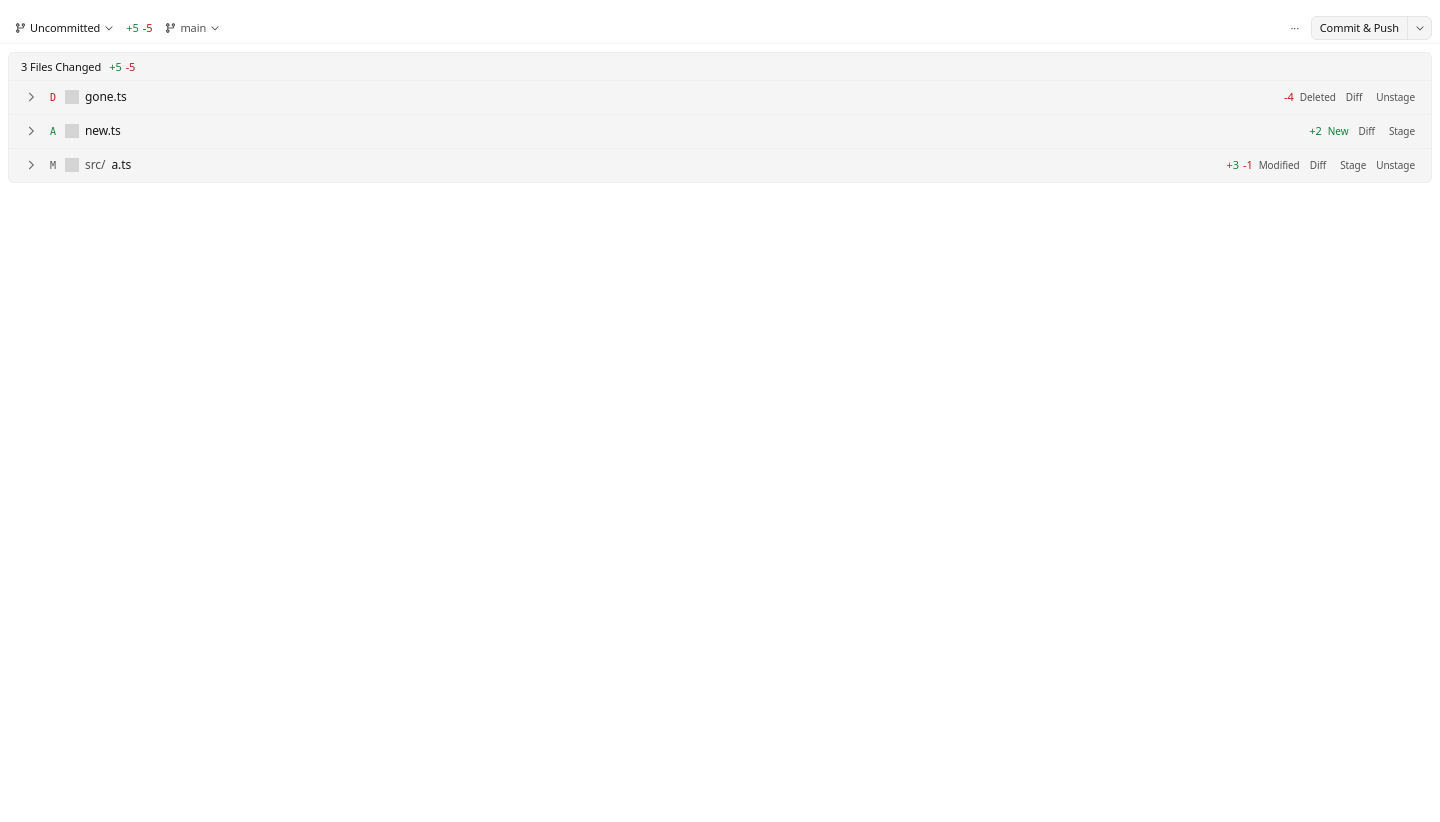
Test: ChangesPanel › lists commits from gitLog under Commits scope
Click the button "Uncommitted". click: (64, 28)
box: x1=8 y1=16 x2=120 y2=40
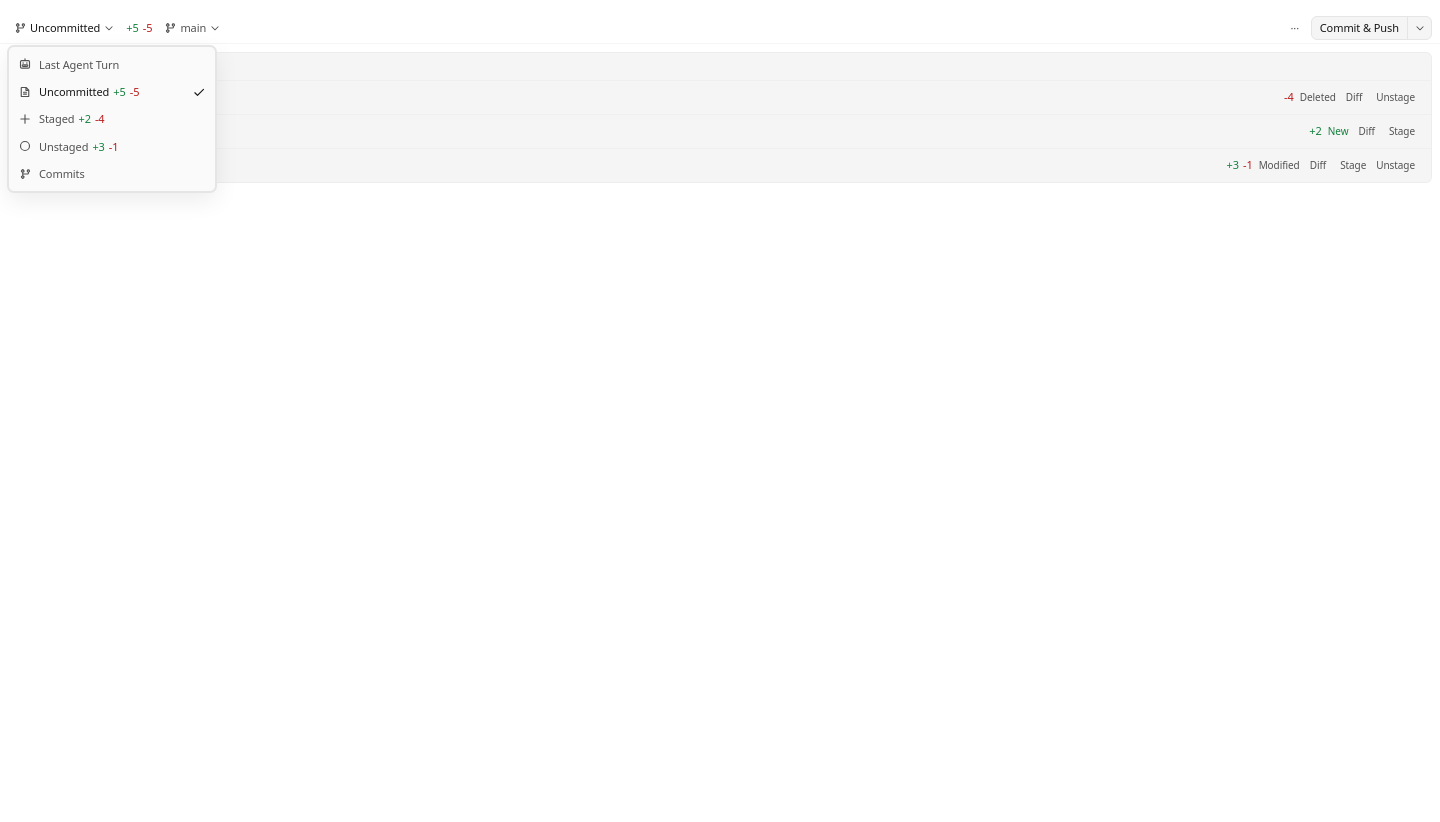
Click the menu item "Commits". click: (112, 174)
box: x1=9 y1=160 x2=215 y2=188
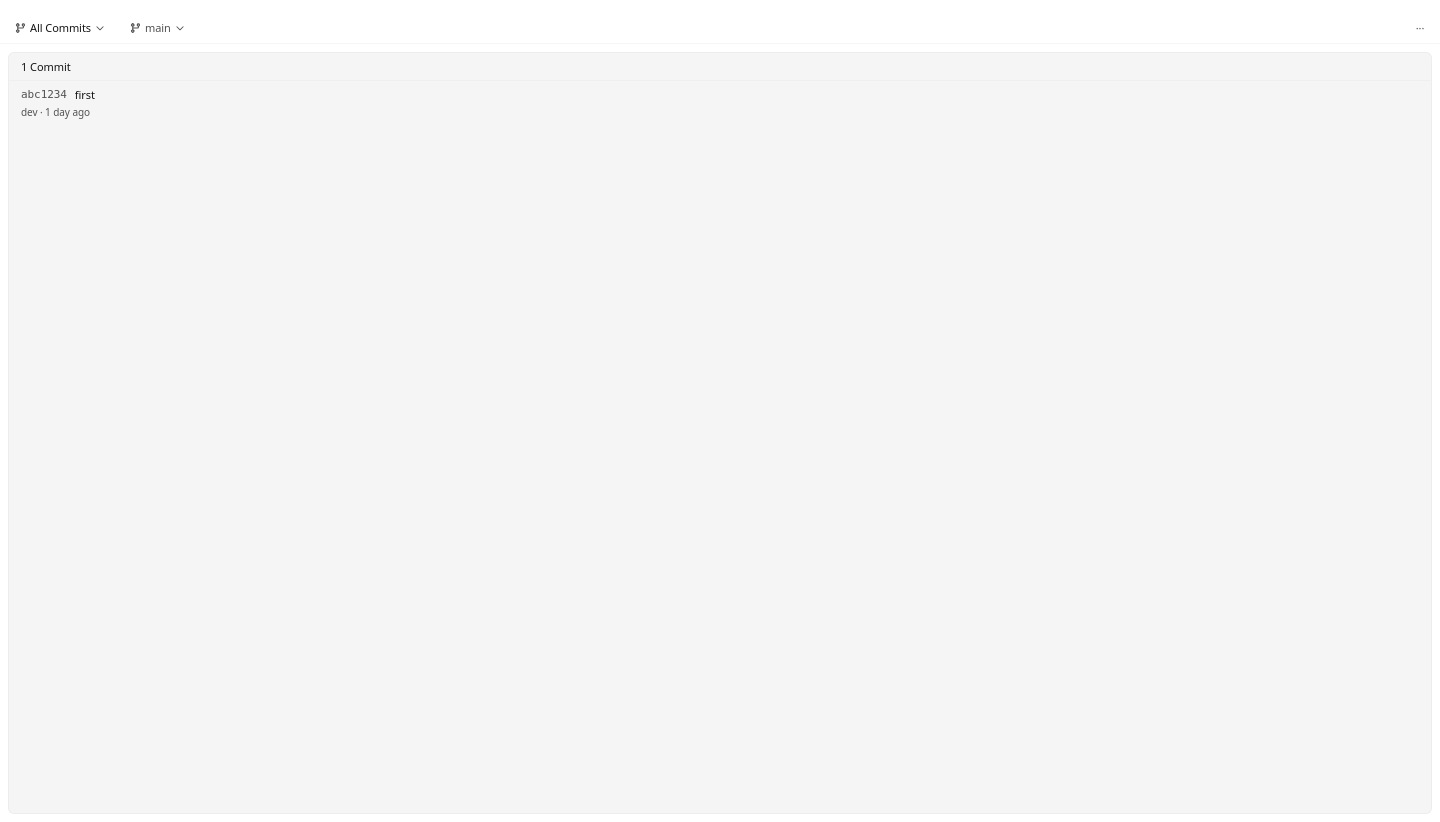
Expected: the text "first" is shown, x1=75 y1=87 x2=95 y2=103
Expected: the button "All Commits" is shown, x1=8 y1=16 x2=111 y2=40
